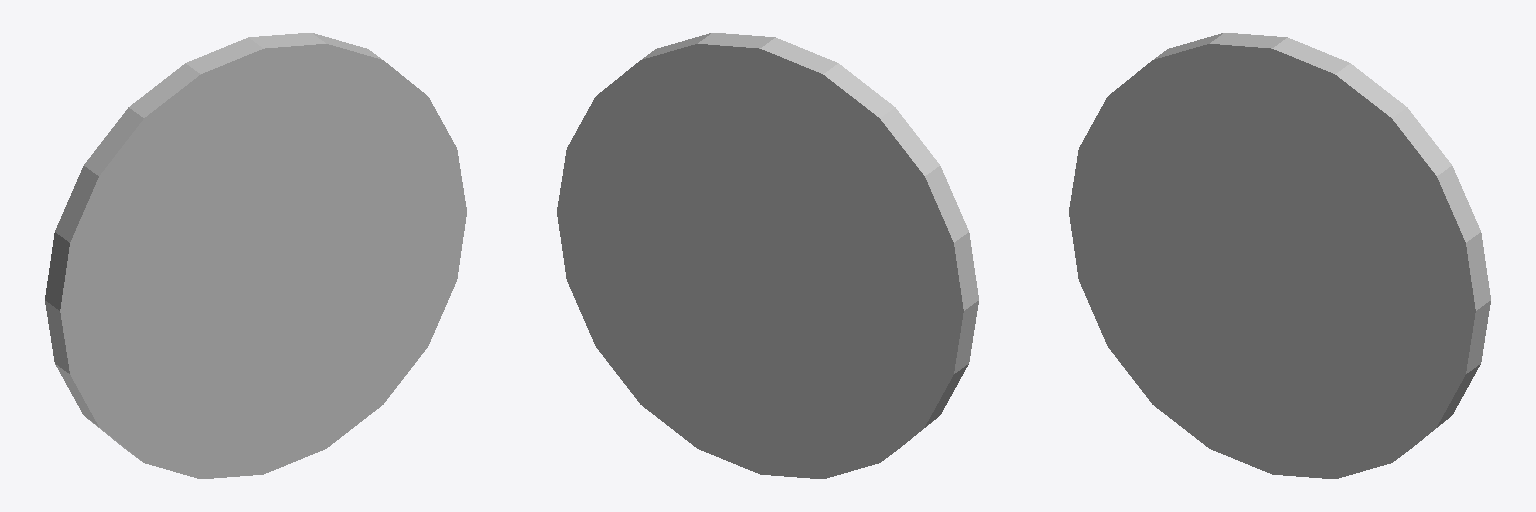
Rendered from sunPlane.obj.
3 views of the same model, side by side, from view 1: azimuth 30°, elevation 25°; view 2: azimuth 150°, elevation 25°; view 3: azimuth 330°, elevation 25° (orthographic).
Size of the model in its own units: 0.4956 by 0.4956 by 0.0324.